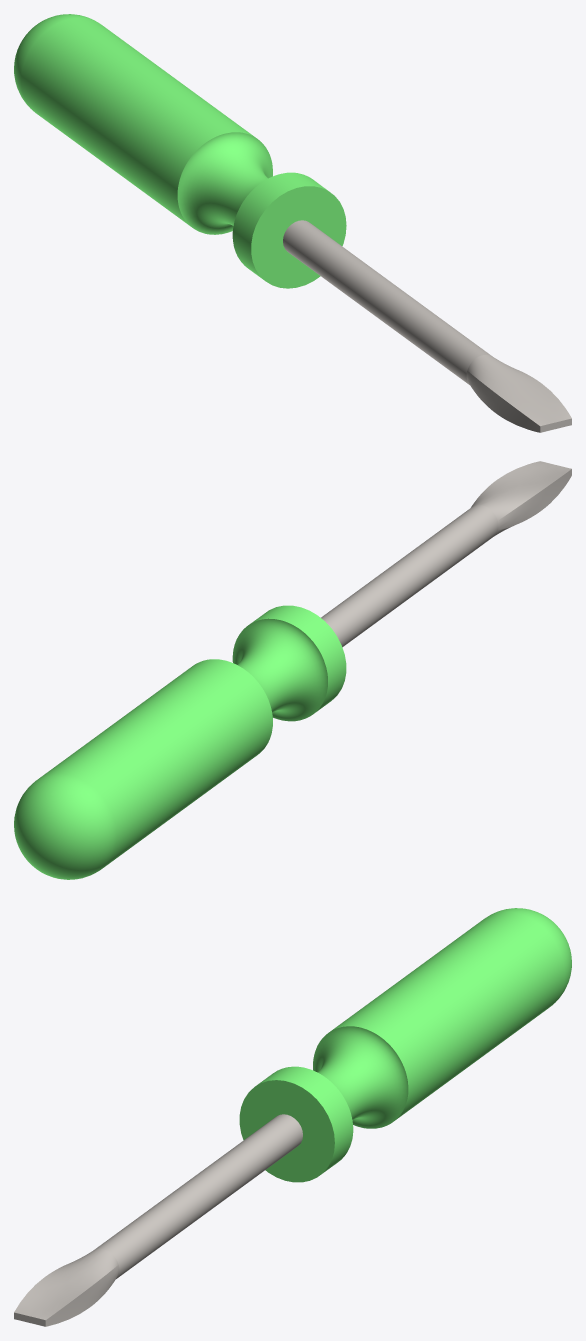
The picture shows the model from 3 angles, top to bottom: view 1: azimuth 30°, elevation 25°; view 2: azimuth 150°, elevation 25°; view 3: azimuth 330°, elevation 25°; orthographic projection.
Visible parts, largest first — view 1: hw-04-02; view 2: hw-04-02; view 3: hw-04-02.
Part boxes in pixels (bbox=[...]): hw-04-02: bbox=[14, 14, 571, 432]; hw-04-02: bbox=[14, 461, 571, 879]; hw-04-02: bbox=[14, 908, 571, 1326].
Size of the model in its own units: 0.0381 by 0.0381 by 0.3556.
